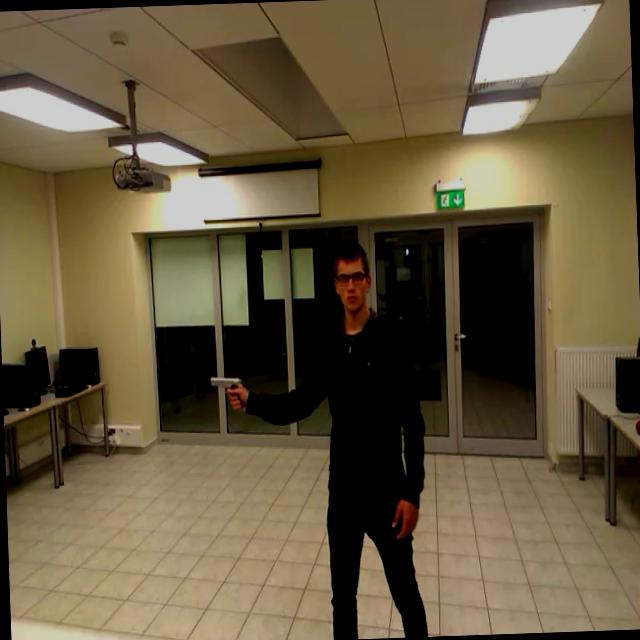handgun: (204, 360, 250, 418)
